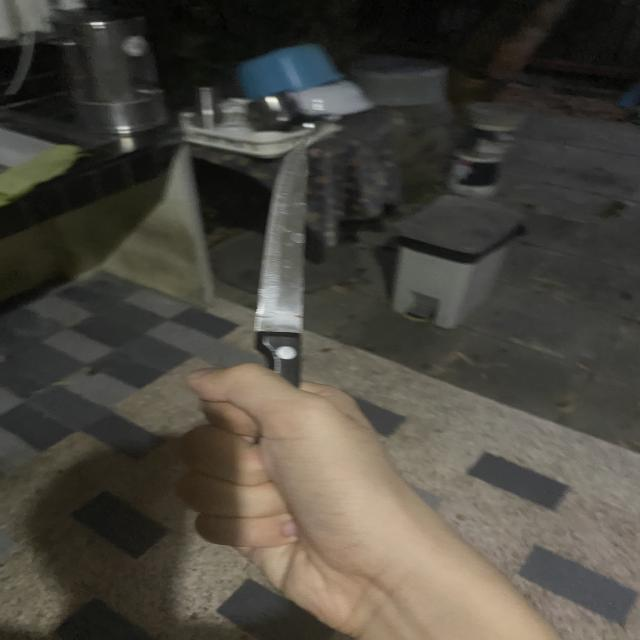faca: (186, 116, 438, 638)
